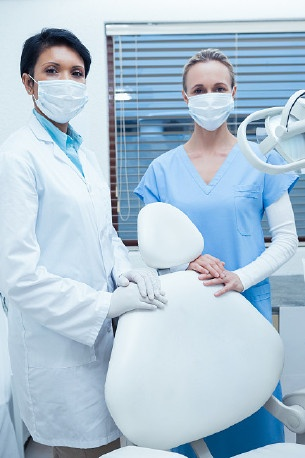Mask: (35, 58, 96, 119)
